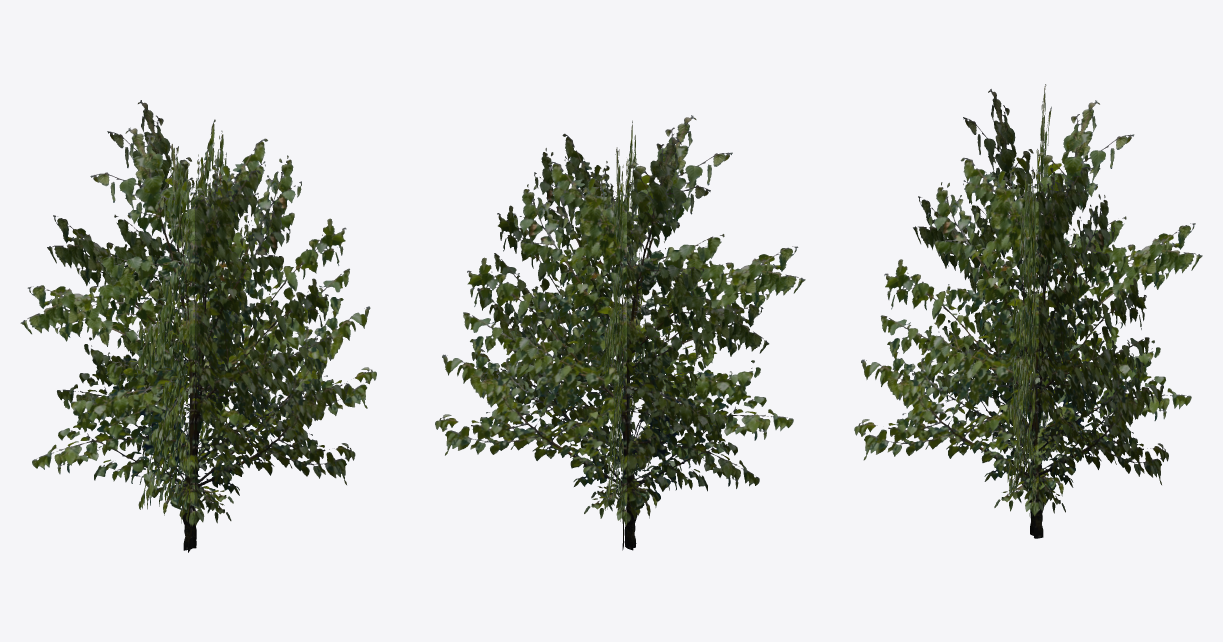
File: Vegetation-01.fbx
The picture shows the model from 3 angles, left to right: view 1: azimuth 30°, elevation 25°; view 2: azimuth 150°, elevation 25°; view 3: azimuth 270°, elevation 25°; orthographic projection.
Parts seen in each view (by area): view 1: Vegetation-01; view 2: Vegetation-01; view 3: Vegetation-01.
Part boxes in pixels (box(x1,y1,x2,y2)): Vegetation-01: box(20, 100, 376, 552); Vegetation-01: box(435, 115, 805, 550); Vegetation-01: box(854, 84, 1202, 538).
Bounding box in the file's own units: 1.88 × 2.33 × 1.74.
